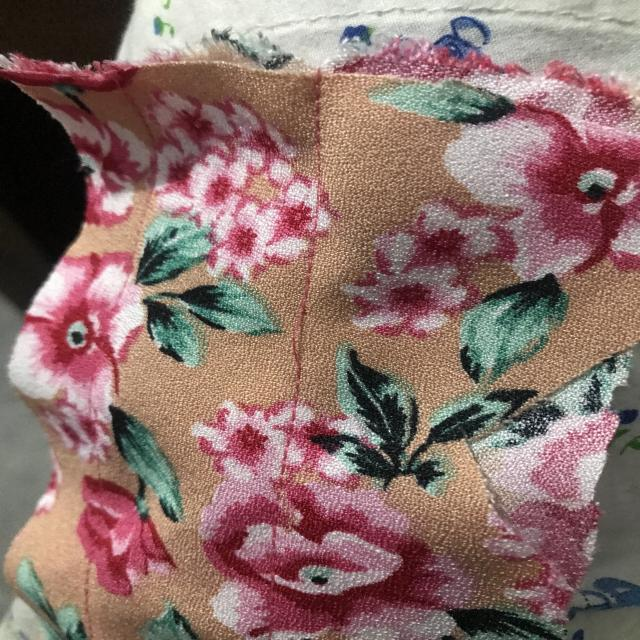skip: (286, 281, 329, 392)
